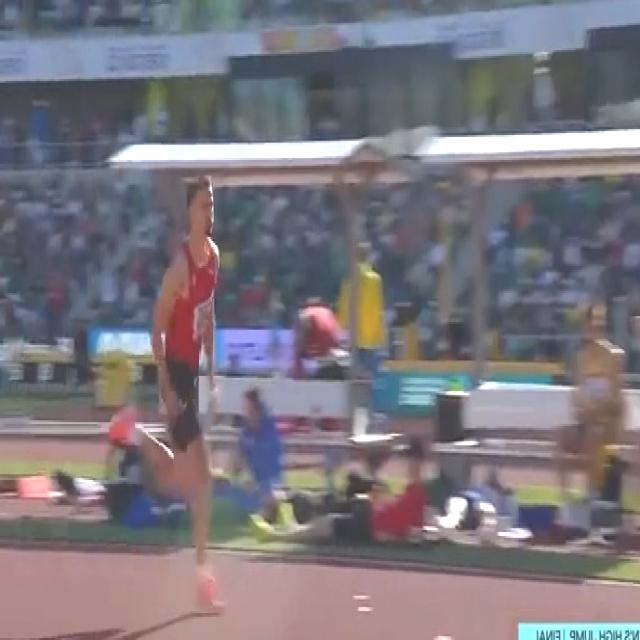run: (107, 175, 226, 617)
